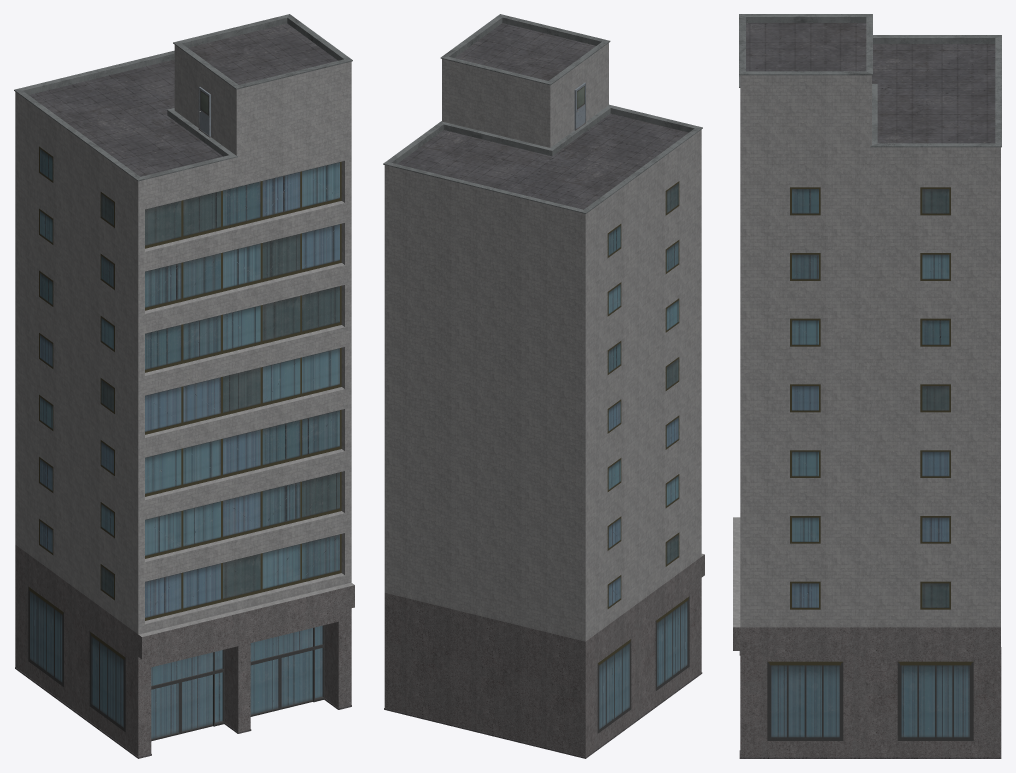
Rendered from jctBld12_D_low.fbx.
The picture shows the model from 3 angles, left to right: view 1: azimuth 30°, elevation 25°; view 2: azimuth 150°, elevation 25°; view 3: azimuth 270°, elevation 25°; orthographic projection. The views are drawn at different scales.
Parts seen in each view (by area): view 1: jctBld12_D_low; view 2: jctBld12_D_low; view 3: jctBld12_D_low.
Boxes of the visible parts, x1,y1,x2,y2 form: jctBld12_D_low: [14, 14, 354, 758]; jctBld12_D_low: [383, 14, 704, 758]; jctBld12_D_low: [733, 14, 1001, 758].
Bounding box in the file's own units: 1160 × 3335 × 1187.
